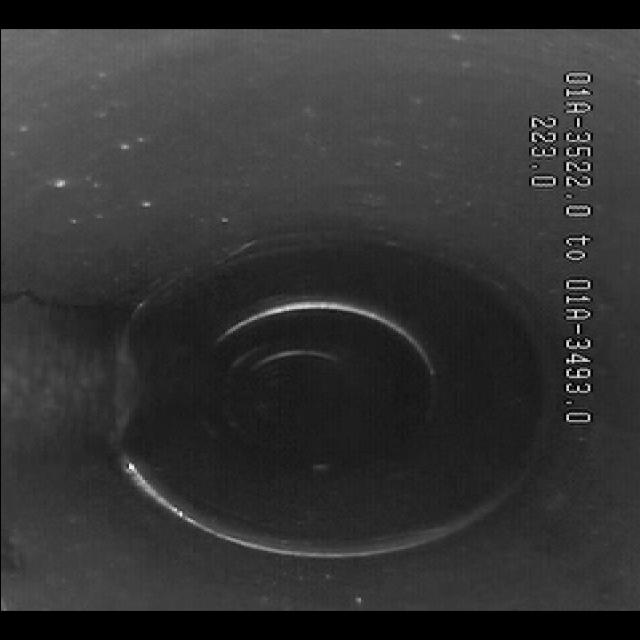Crack: (2, 282, 162, 326)
